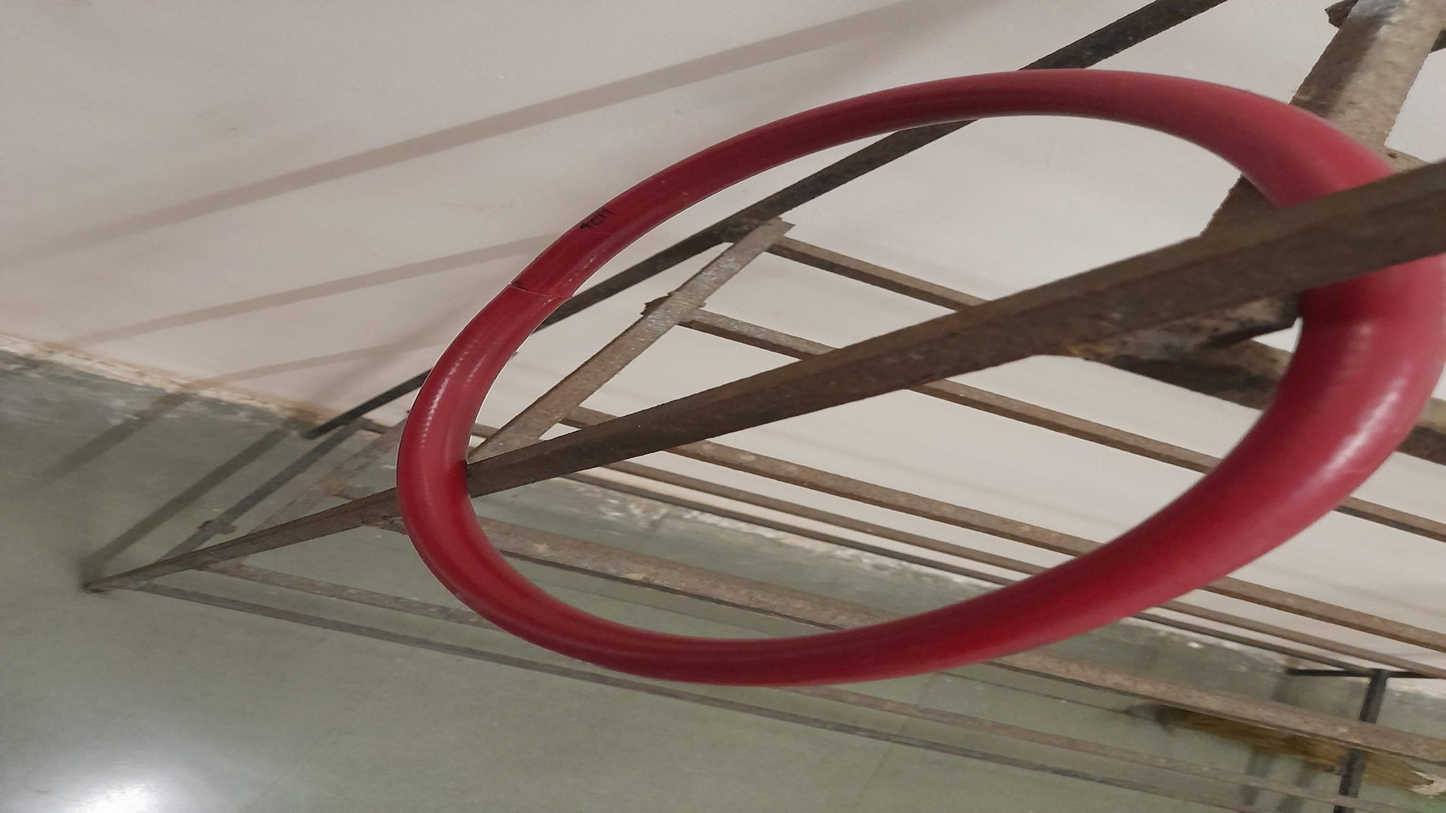Red ring: (417, 71, 1418, 679)
